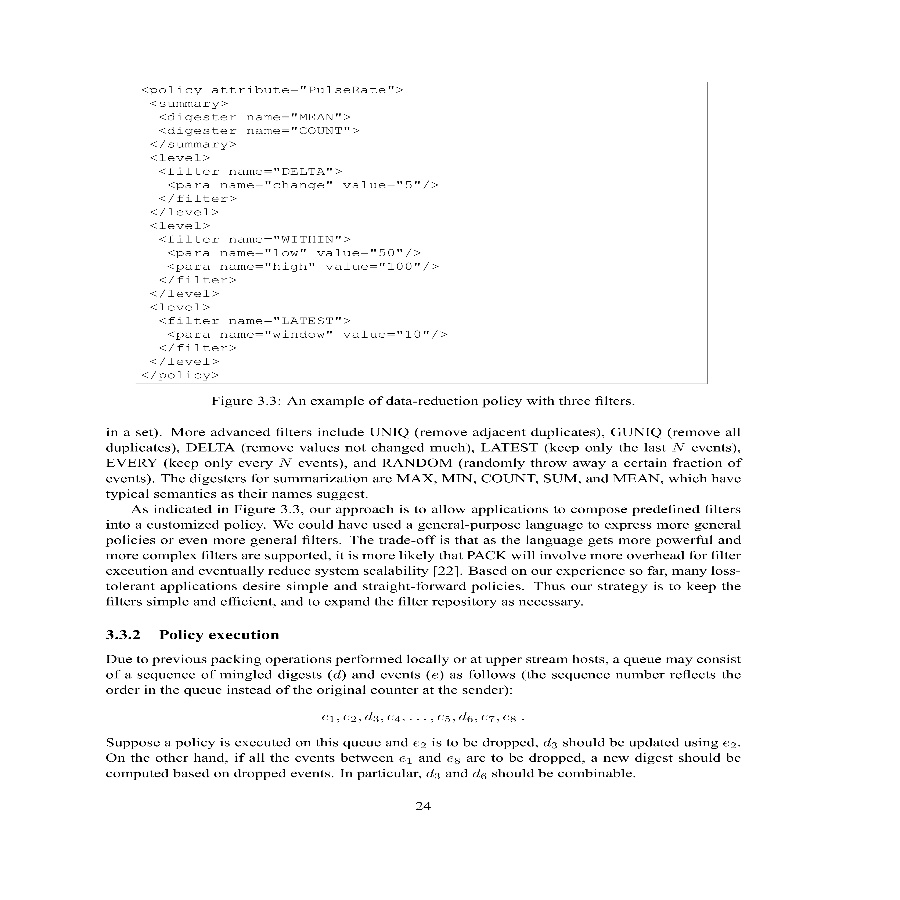eq: (317, 707, 532, 728)
